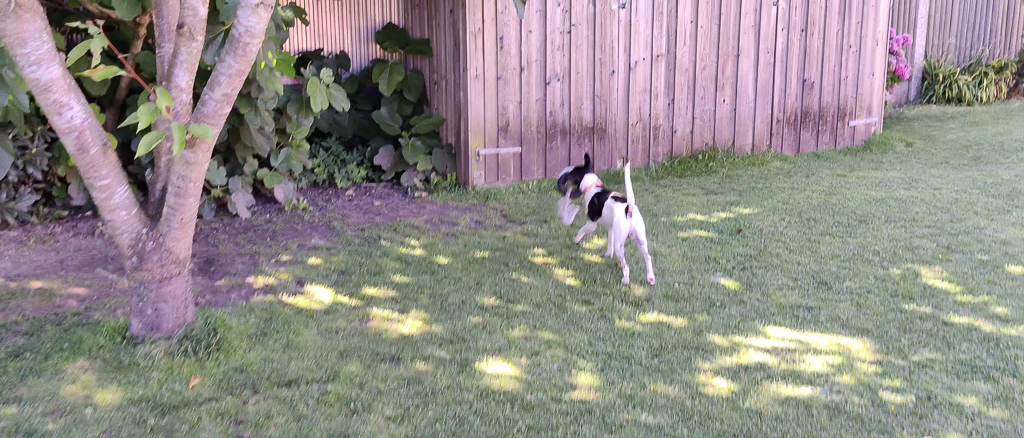Dog: (542, 148, 661, 296)
